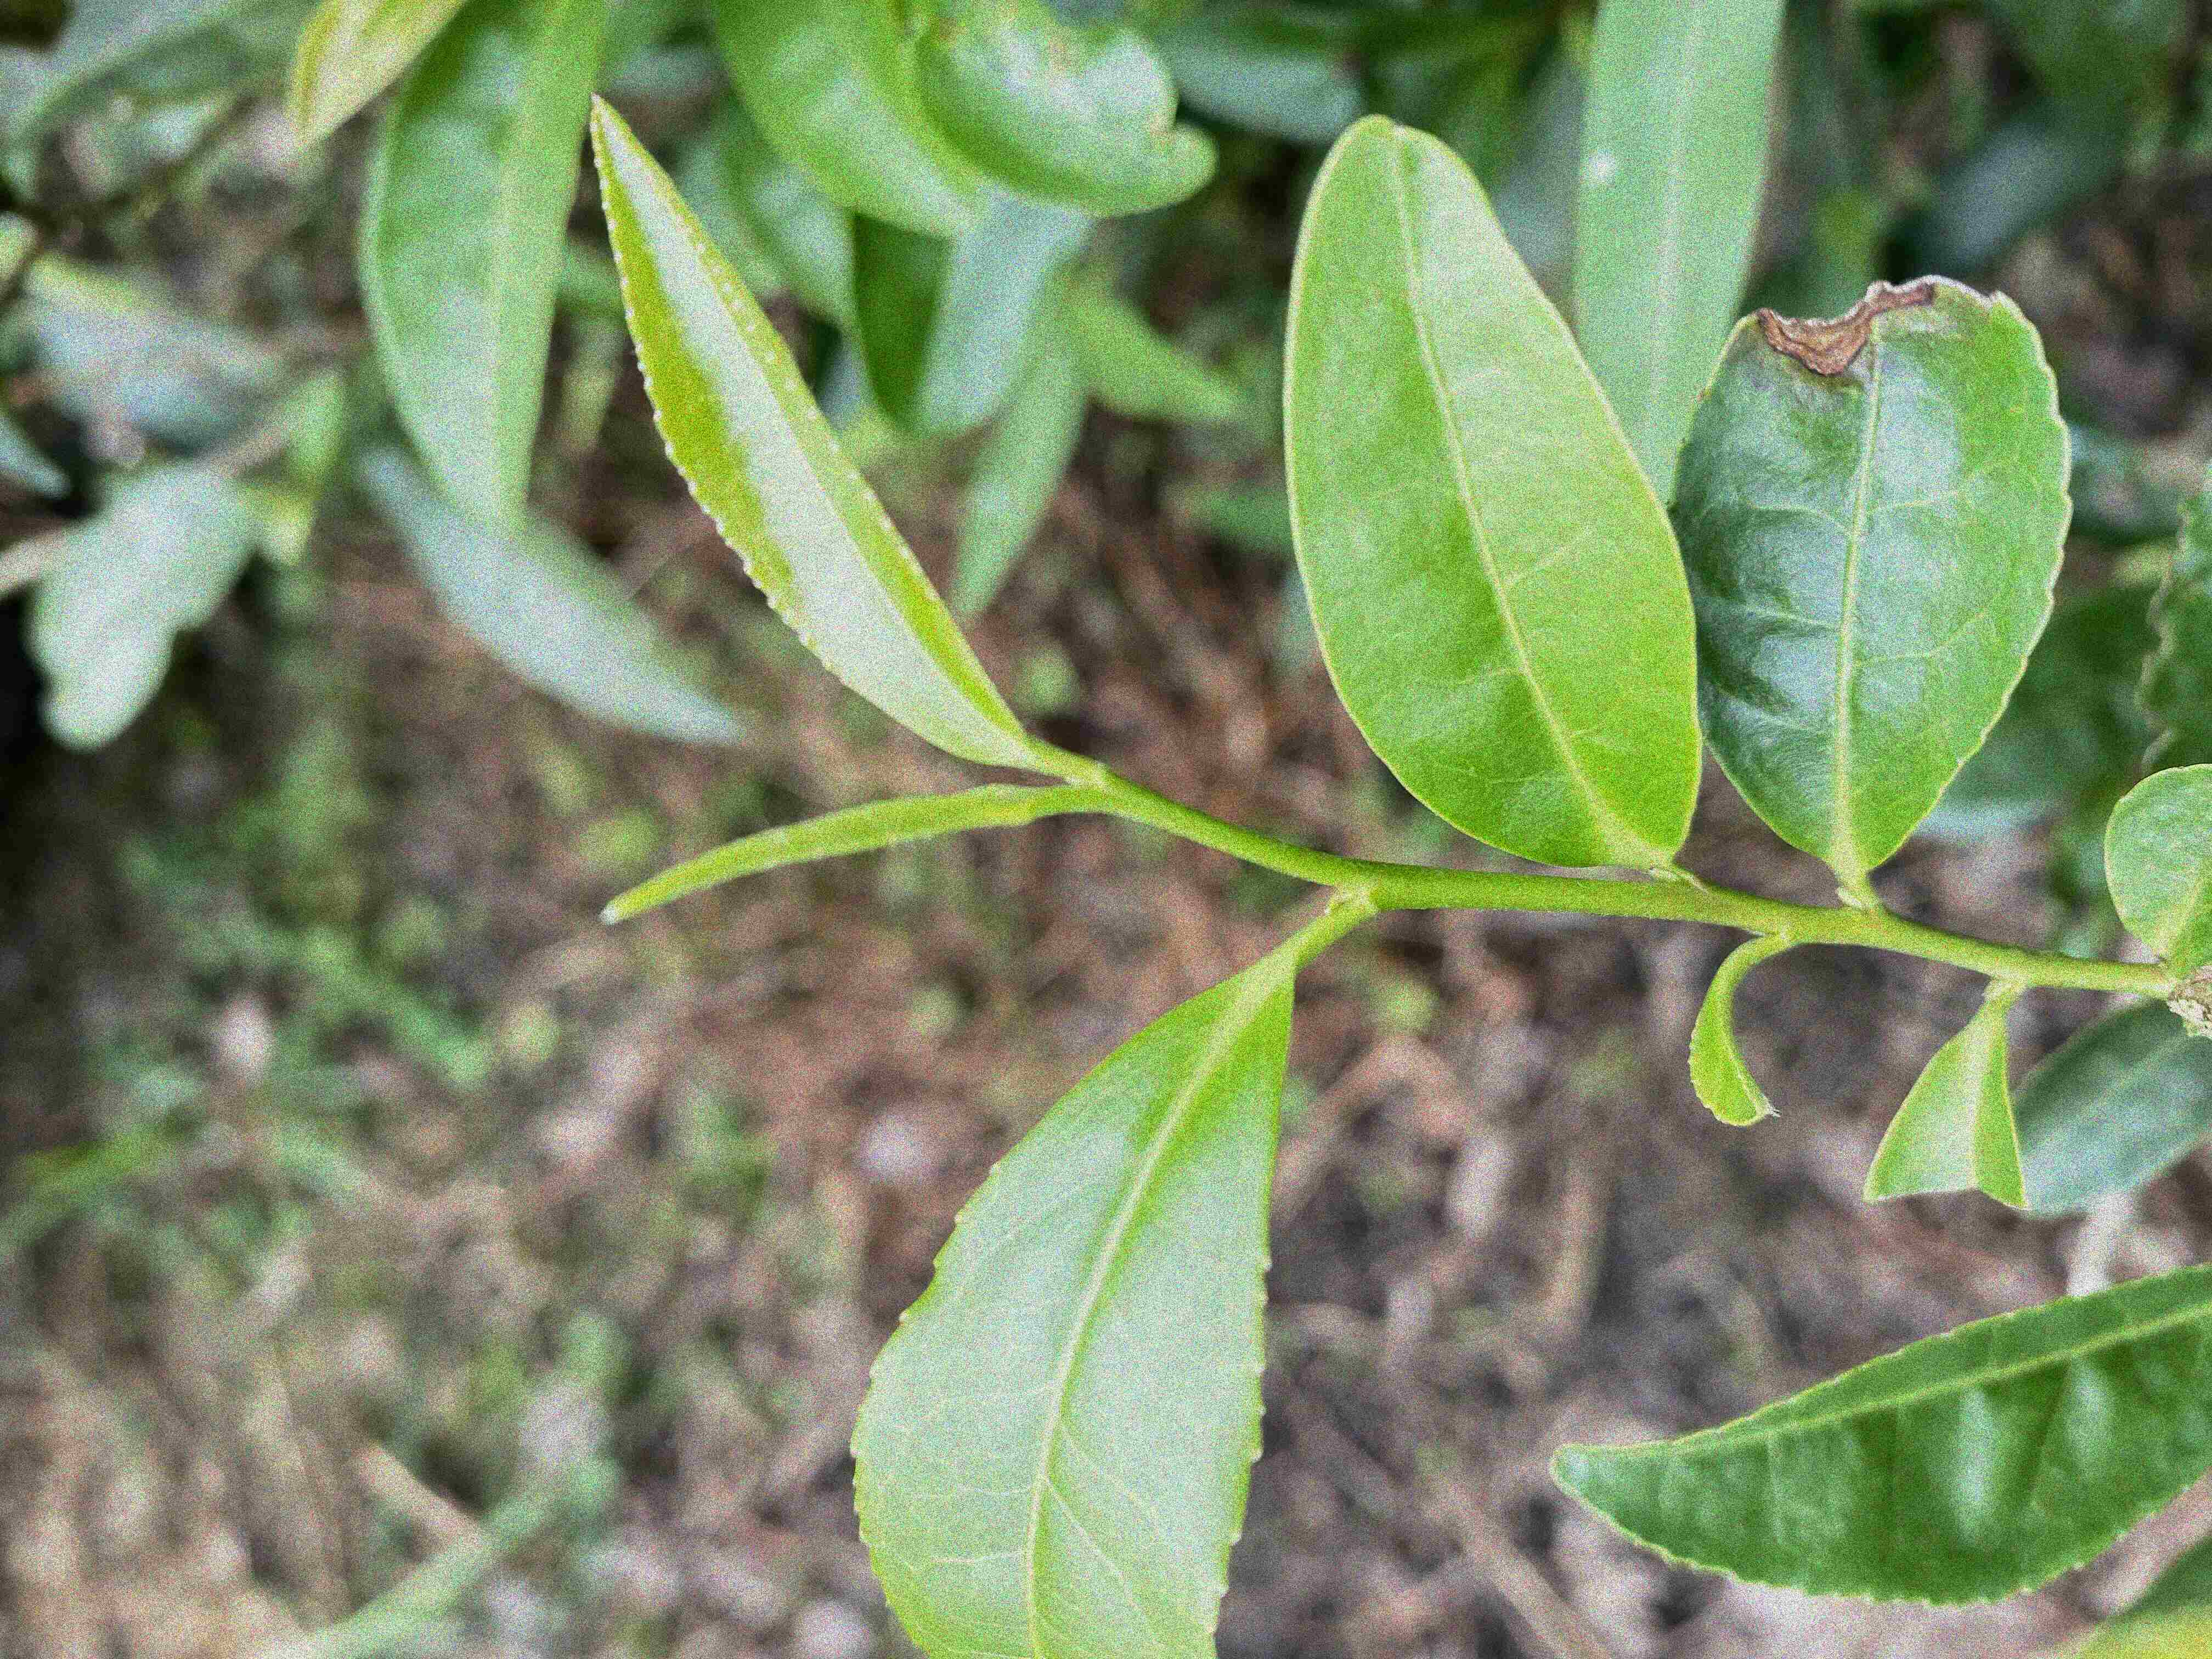chihuo_high: (1864, 999, 2031, 1211)
healthy: (845, 951, 1301, 1654), (1282, 112, 1703, 870), (587, 92, 1031, 770), (1547, 1265, 2212, 1610)
tanju_high: (1667, 277, 2073, 871)
